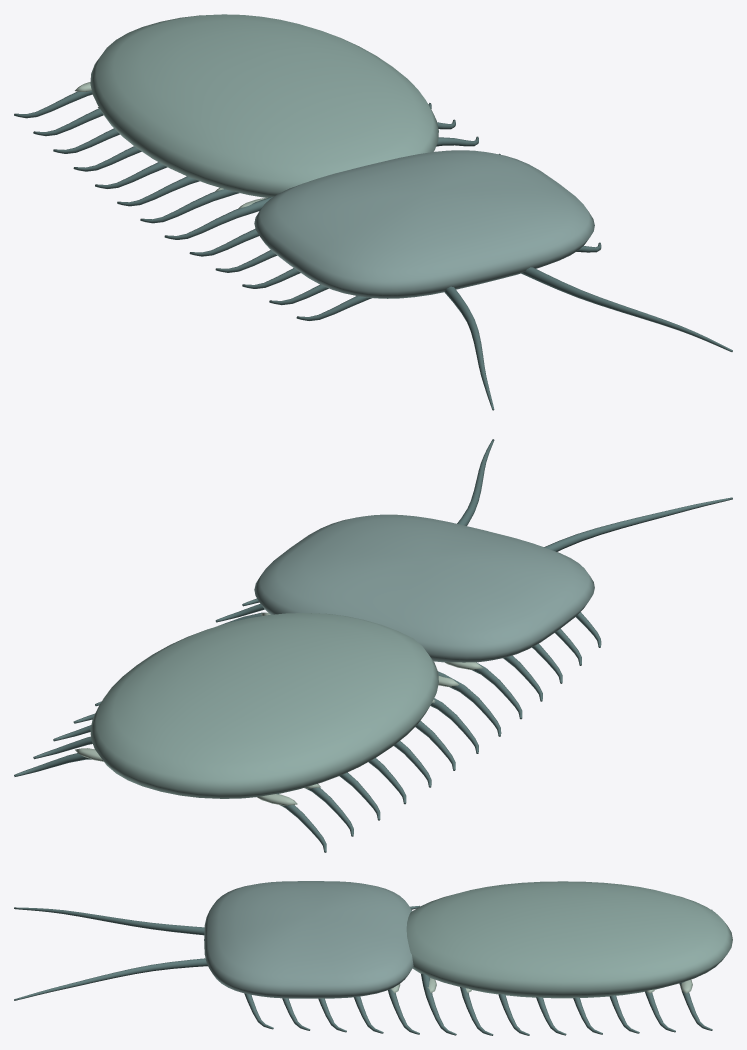
Rendered from naraoia.glb.
3 renders of one model, top to bottom at view 1: azimuth 30°, elevation 25°; view 2: azimuth 150°, elevation 25°; view 3: azimuth 270°, elevation 25°, orthographic. The views are drawn at different scales.
Parts seen in each view (by area): view 1: anterior-and-posterior-dorsal-shields, small-paired-walking-limbs-and-gill-blades; view 2: anterior-and-posterior-dorsal-shields, small-paired-walking-limbs-and-gill-blades; view 3: anterior-and-posterior-dorsal-shields, small-paired-walking-limbs-and-gill-blades.
Boxes of the visible parts, x1,y1,x2,y2 form: anterior-and-posterior-dorsal-shields: (90,14,594,298); small-paired-walking-limbs-and-gill-blades: (14,82,732,410); anterior-and-posterior-dorsal-shields: (90,514,594,798); small-paired-walking-limbs-and-gill-blades: (14,439,732,852); anterior-and-posterior-dorsal-shields: (204,881,732,998); small-paired-walking-limbs-and-gill-blades: (14,905,712,1035).
Bounding box in the file's own units: 0.0311 × 0.0067 × 0.0727.
